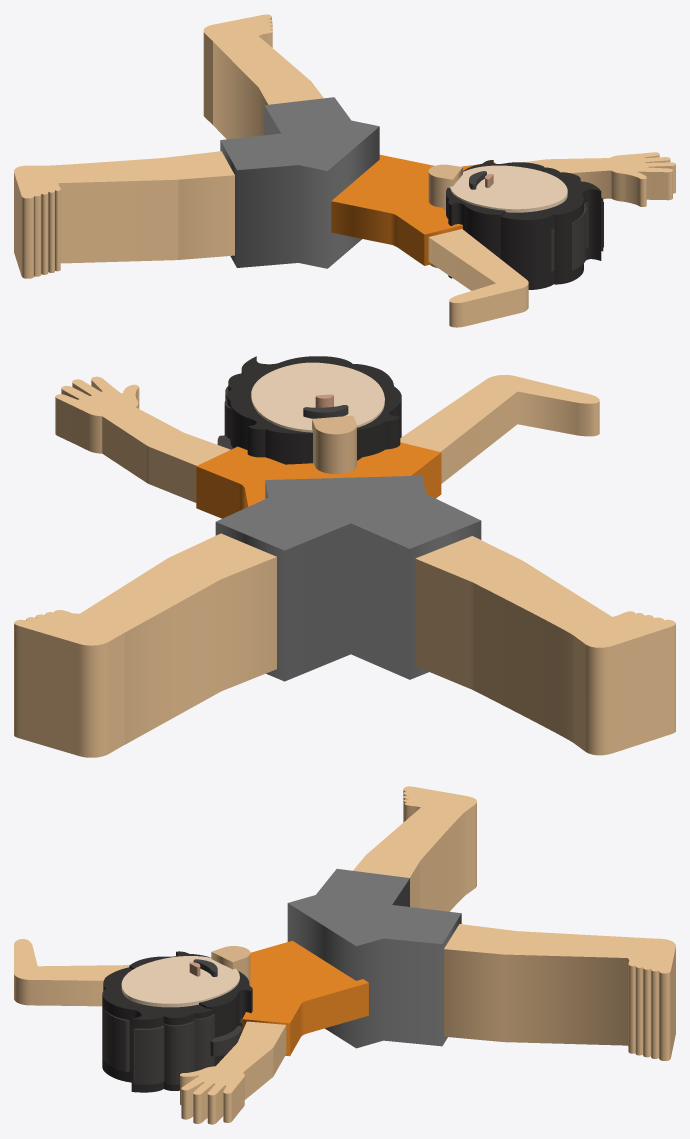
Rendered from emoji_u1f938_1f3fb.glb.
3 views of the same model, one above another, from view 1: azimuth 30°, elevation 25°; view 2: azimuth 150°, elevation 25°; view 3: azimuth 270°, elevation 25° (orthographic). The views are drawn at different scales.
Visible parts, largest first — view 1: emoji_u1f938_1f3fb; view 2: emoji_u1f938_1f3fb; view 3: emoji_u1f938_1f3fb.
Part boxes in pixels (left/top/right/bottom): emoji_u1f938_1f3fb: left=14, top=14, right=675, bottom=327; emoji_u1f938_1f3fb: left=14, top=356, right=675, bottom=757; emoji_u1f938_1f3fb: left=14, top=786, right=675, bottom=1124.
Size of the model in its own units: 0.0331 by 0.0056 by 0.0329.
